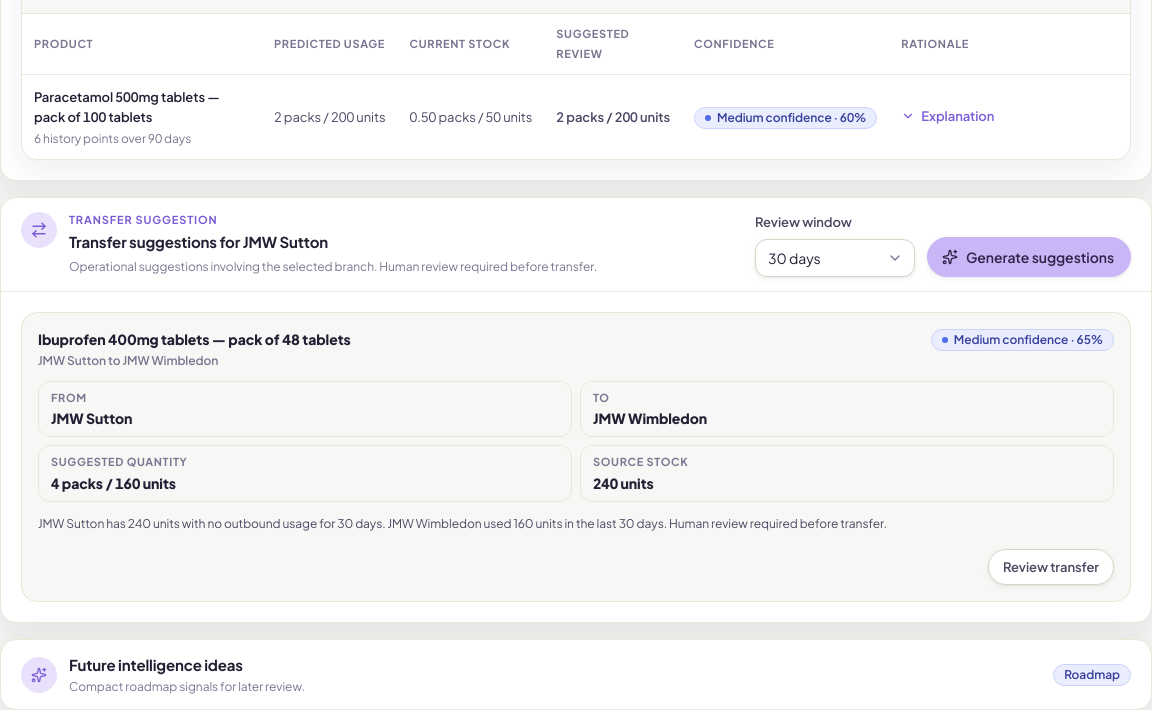
Test: StockAnalyticsScreen › opens a prefilled transfer review without moving stock
(page scrolled)
Check: the heading "Transfer suggestions for JMW Sutton" is shown, box [69,232,328,251]
Check: the heading "Ibuprofen 400mg tablets — pack of 48 tablets" is shown, box [38,329,351,349]
What coordinates should you click on to do the following:
click the button "Review transfer"
I would click on:
 (1051, 567)
Its box is [988,549,1114,585].
(page scrolled)
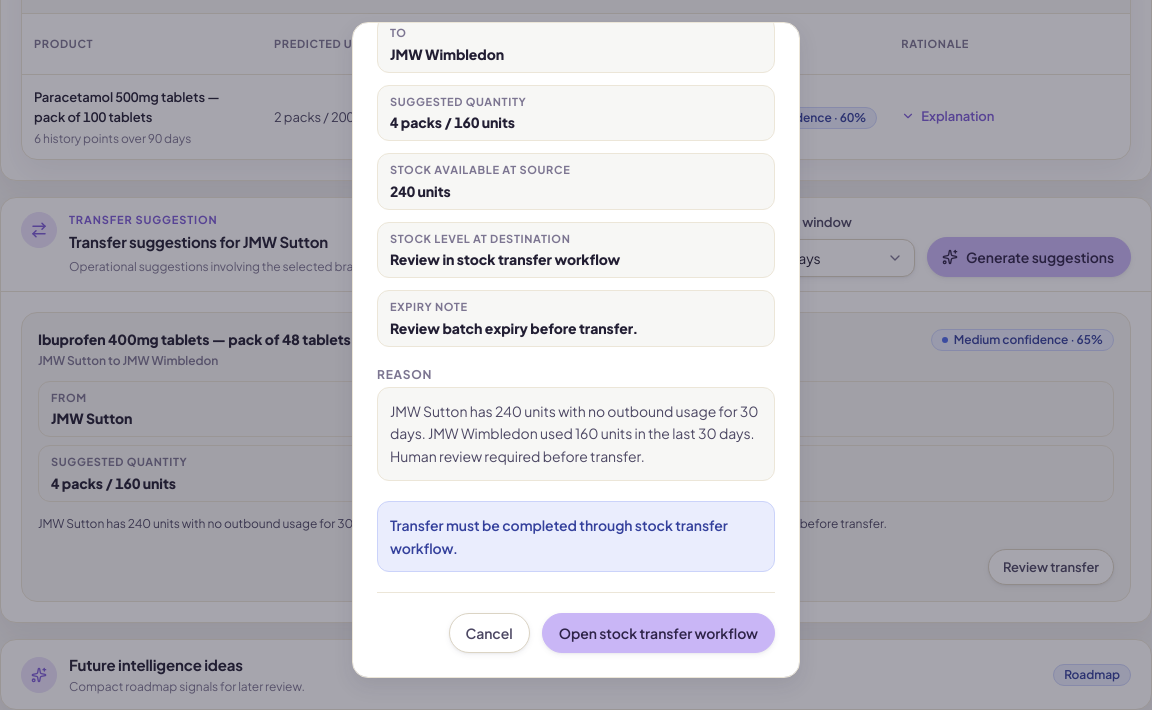
Check: the text "JMW Wimbledon" is shown, box [390,44,504,62]
Check: the text "4 packs / 160 units" is shown, box [390,113,515,131]
Check: the text "Transfer must be completed through stock transfer workflow." is shown, box [377,501,775,572]
